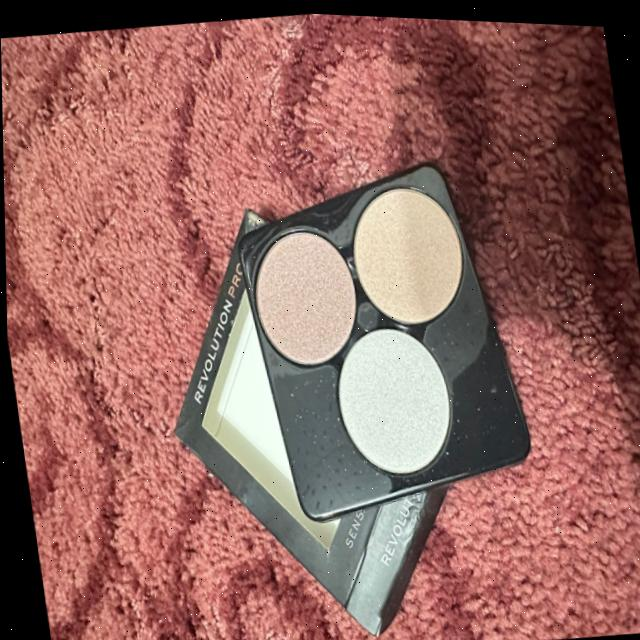highlighter: (328, 162, 481, 341), (317, 315, 465, 486), (228, 204, 373, 377)
